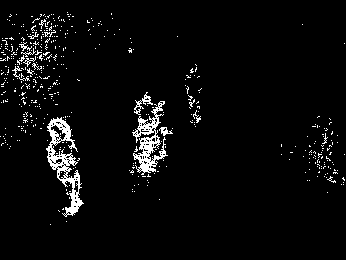person: (44, 119, 87, 214), (184, 62, 207, 126)
